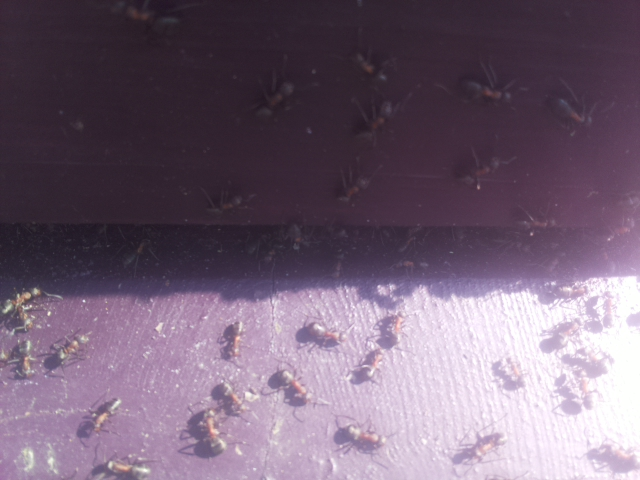ant: (246, 64, 303, 135), (41, 327, 94, 376), (539, 91, 597, 133), (80, 392, 130, 440), (331, 164, 383, 208), (452, 153, 506, 193), (331, 418, 392, 453), (196, 404, 231, 463), (460, 430, 513, 466), (270, 366, 317, 406), (347, 43, 390, 85), (345, 347, 389, 387), (0, 286, 50, 321), (361, 93, 399, 137), (298, 320, 351, 348), (461, 76, 509, 106), (217, 376, 251, 416), (106, 455, 157, 480), (221, 315, 245, 364), (120, 237, 152, 273), (15, 336, 38, 380), (502, 358, 529, 392), (576, 376, 599, 410), (285, 216, 306, 253)
